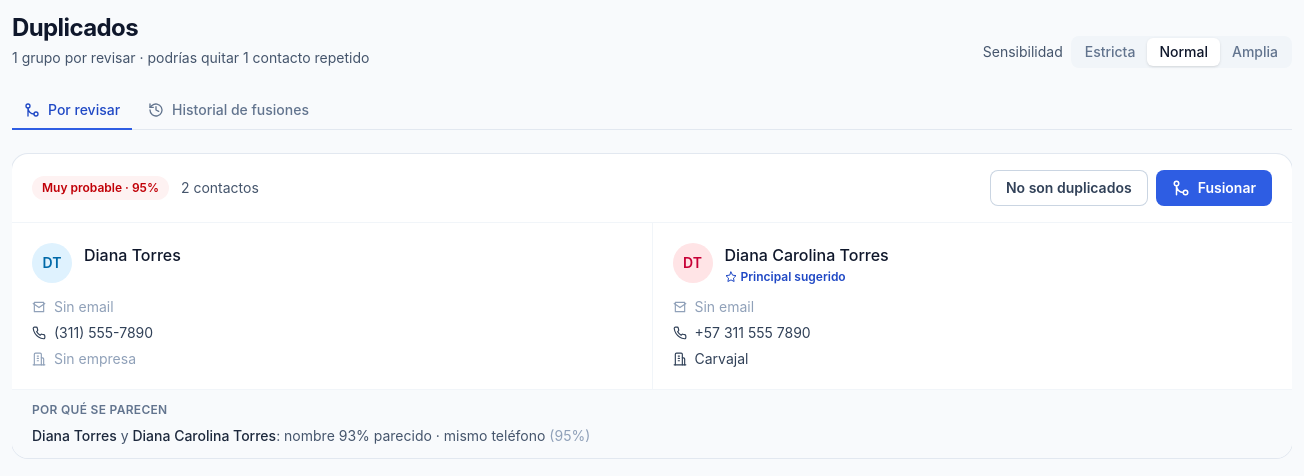
Scenario: DuplicatesView › "no son duplicados" descarta el par y quita el grupo
The width and height of the screenshot is (1304, 476).
Click the button "No son duplicados" at x=1069, y=188, box left=990, top=170, right=1148, bottom=206
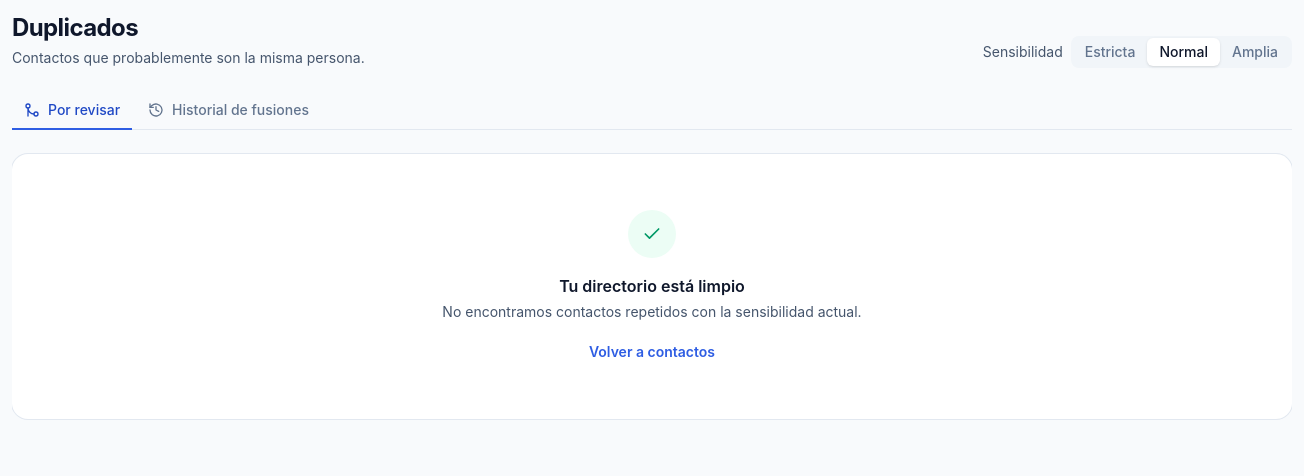
Expected: the text "Tu directorio está limpio" is shown, left=559, top=276, right=745, bottom=296
